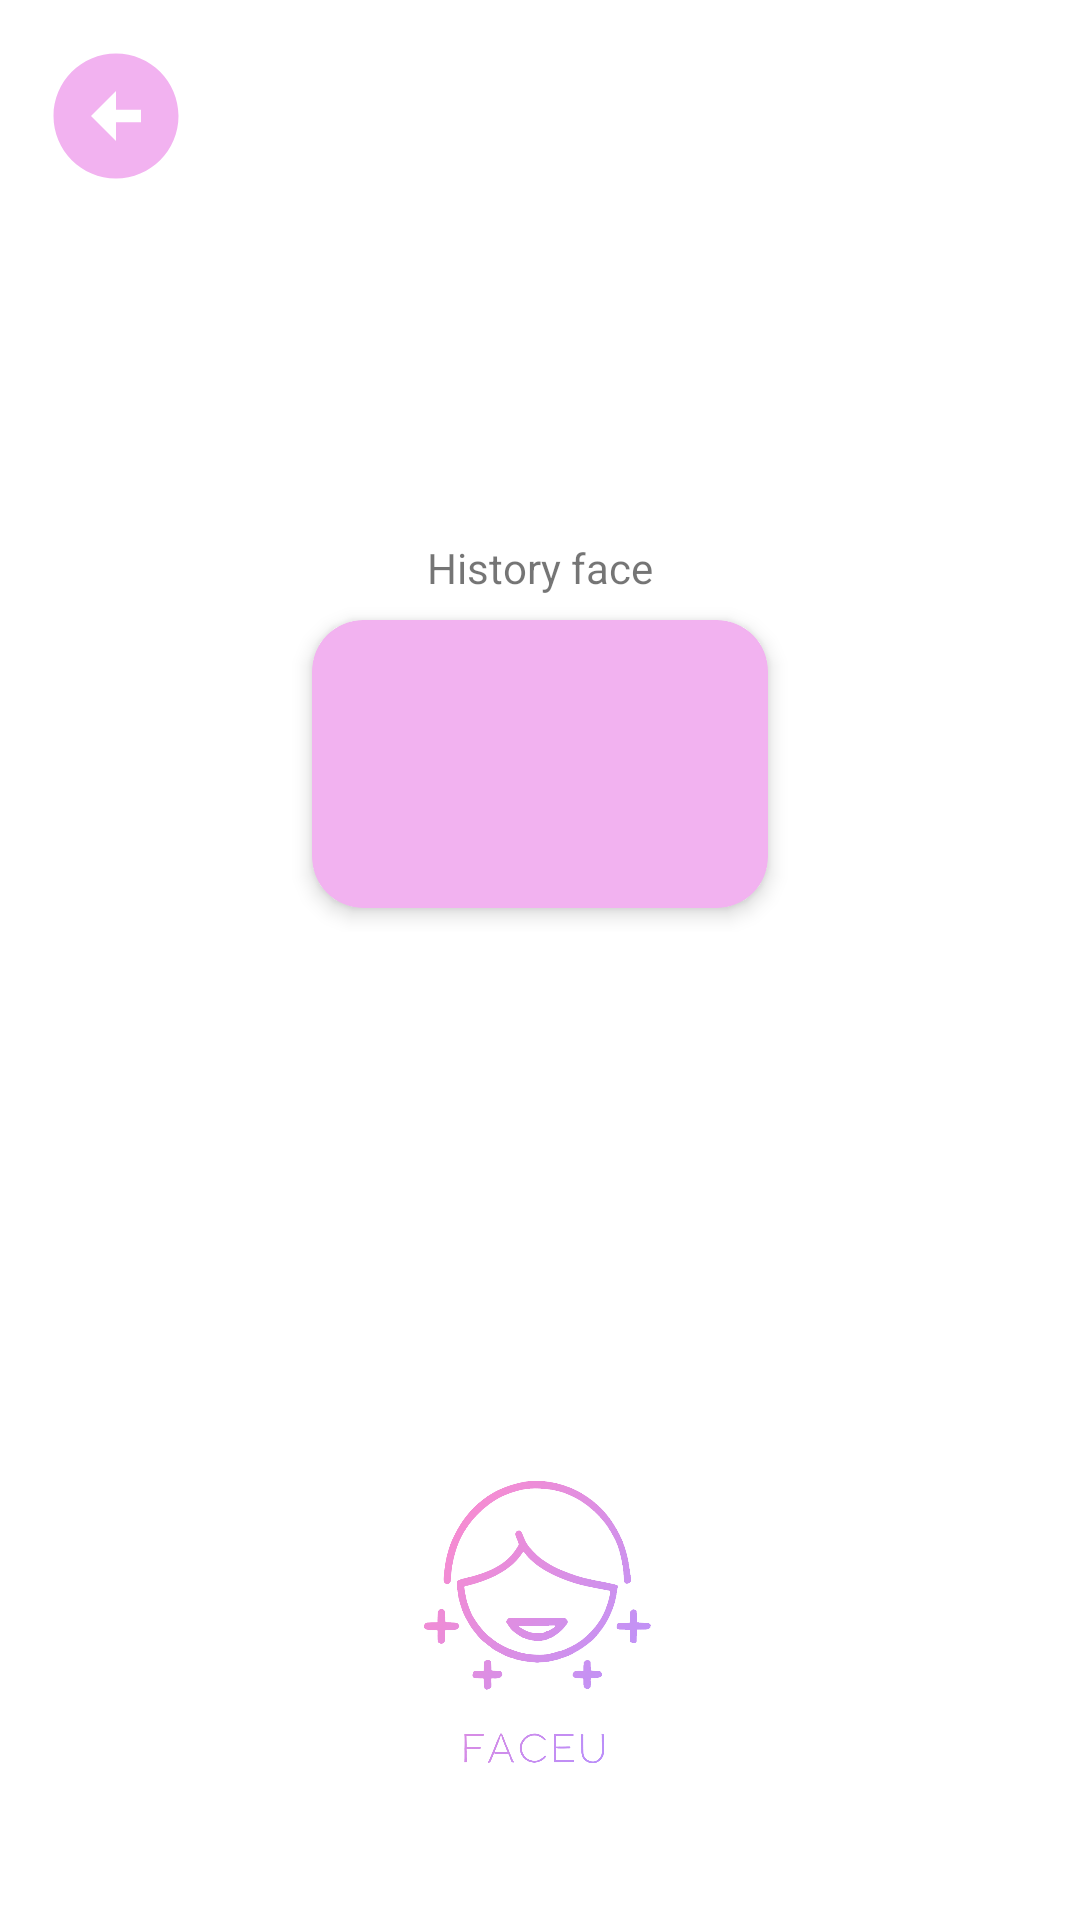

Named icons in this screenshot (1080×1920) and their centers, (x=x, y=y):
arrow circle left: (x=116, y=116)
